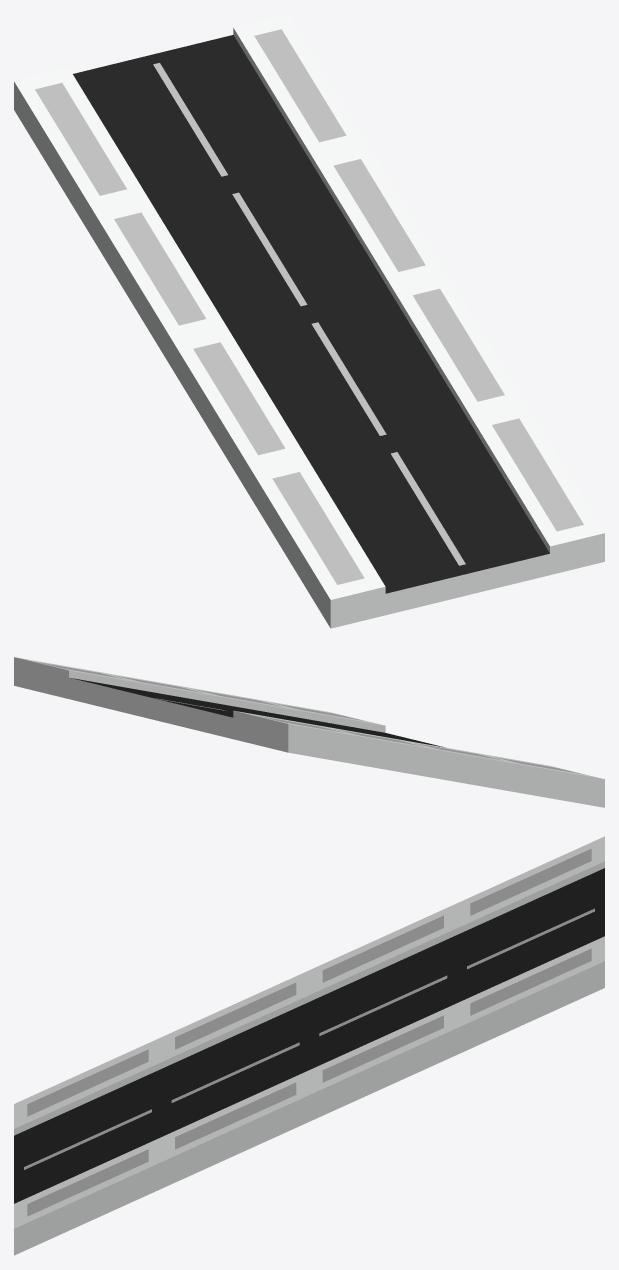
File: duong len doc.fbx
3 renders of one model, top to bottom at view 1: azimuth 30°, elevation 25°; view 2: azimuth 150°, elevation 25°; view 3: azimuth 270°, elevation 25°, orthographic. The views are drawn at different scales.
Visible parts, largest first — view 1: duong_len_doc; view 2: duong_len_doc; view 3: duong_len_doc.
Part boxes in pixels (x1,y1,x2,y2): duong_len_doc: (14, 14, 604, 628); duong_len_doc: (14, 657, 604, 807); duong_len_doc: (14, 836, 604, 1255).
Bounding box in the file's own units: 20 × 22 × 40.
Materials: 1 (1 with a texture image).
